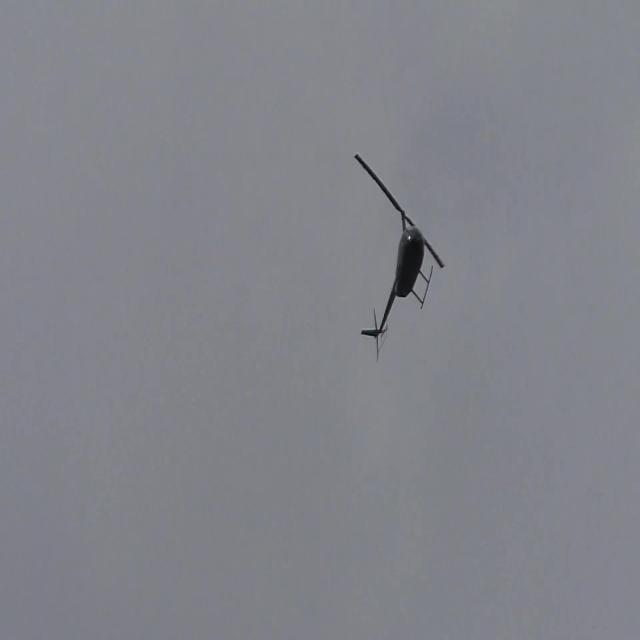CIV_HELO: (361, 207, 434, 339)
